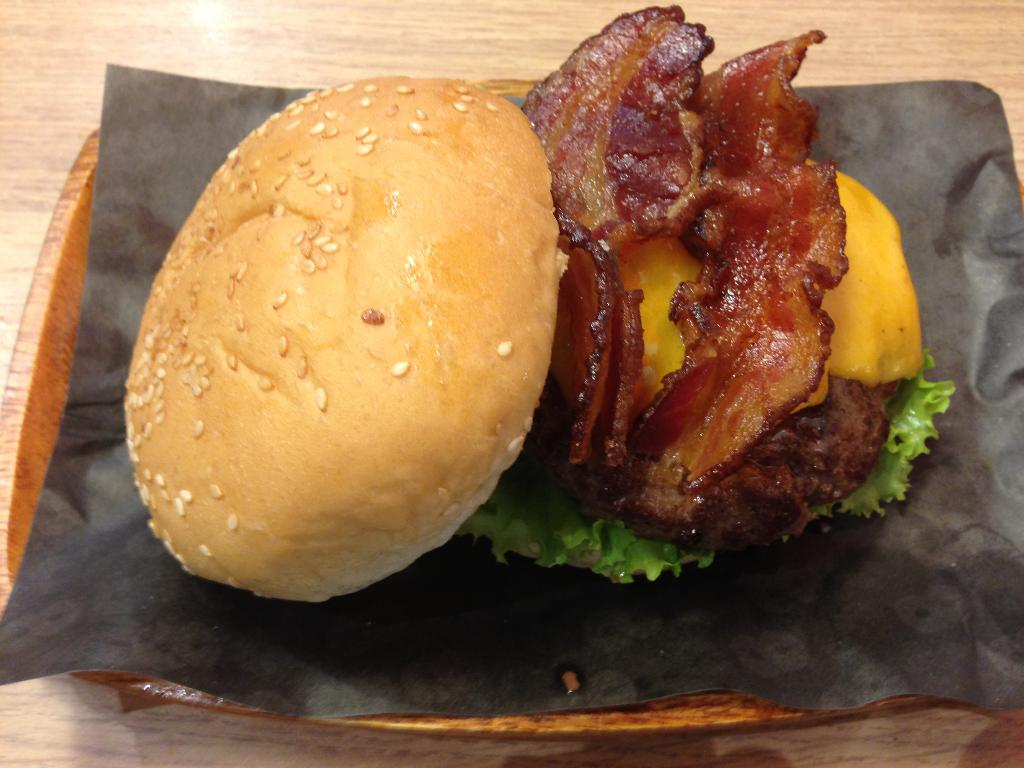Hamburger: (125, 1, 958, 605)
